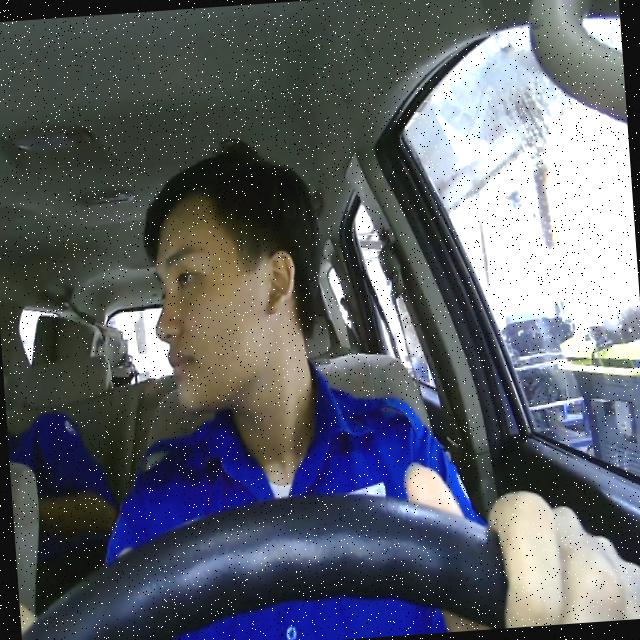seeing_left: (144, 188, 305, 414)
